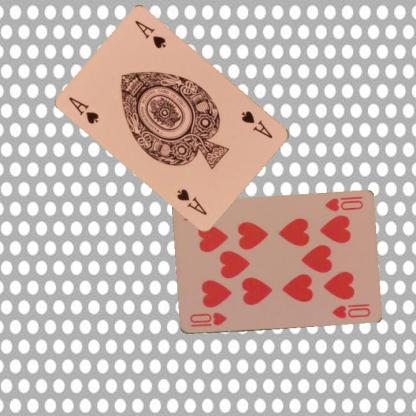10h: (322, 194, 364, 213), (186, 310, 228, 328)
As: (238, 108, 274, 140), (66, 94, 100, 126)
